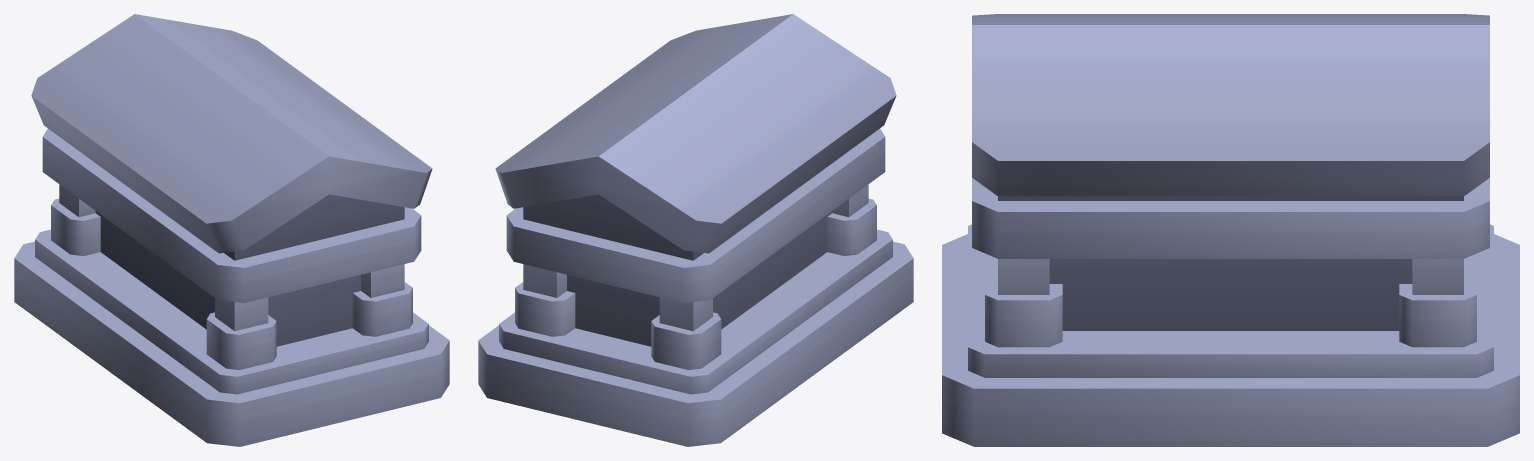
File: grave.crypt.glb
3 views of the same model, side by side, from view 1: azimuth 30°, elevation 25°; view 2: azimuth 150°, elevation 25°; view 3: azimuth 270°, elevation 25° (orthographic). The views are drawn at different scales.
Visible parts, largest first — view 1: crypt; view 2: crypt; view 3: crypt.
Part boxes in pixels (x1=…): crypt: x1=14, y1=14, x2=449, y2=446; crypt: x1=478, y1=14, x2=913, y2=446; crypt: x1=942, y1=14, x2=1519, y2=446.
Size of the model in its own units: 1.72 by 1.75 by 2.66.
Materials: 1 (1 with a texture image).
